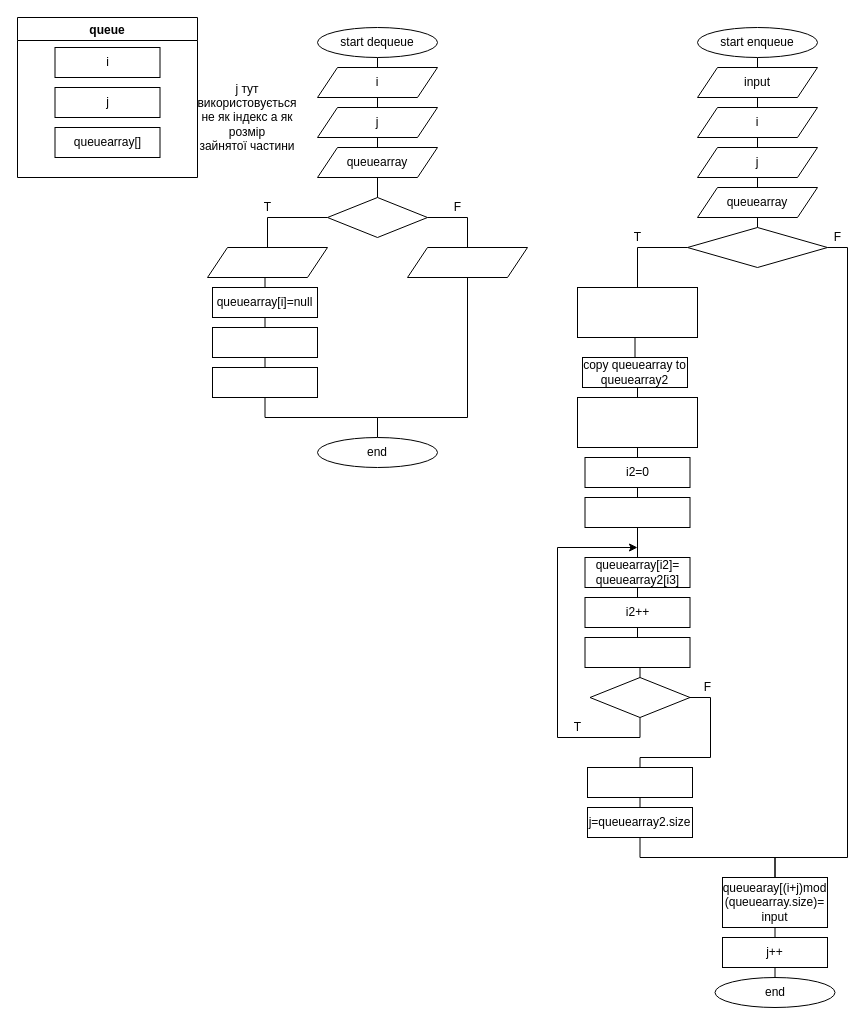
Some shapes in this 866 by 1025 pixel diagram are drawn without their labels. Each missing label, with the centre of its shape:
i3!=i: point (639, 697)
i3=(i3+1)mod (queuearray2.size): point (637, 652)
i3=i: point (637, 512)
i=(i+1)mod (queuearray.size): point (265, 382)
i=0: point (639, 782)
j--: point (265, 342)
j=queuearray.size: point (757, 247)
j>0: point (377, 217)
new array[queuearray.size] queuearray2: point (637, 312)
queuearray=new array[ queuearray2.size*2]: point (637, 422)
queuearray[i]: point (267, 262)
черга порожня: point (467, 262)
